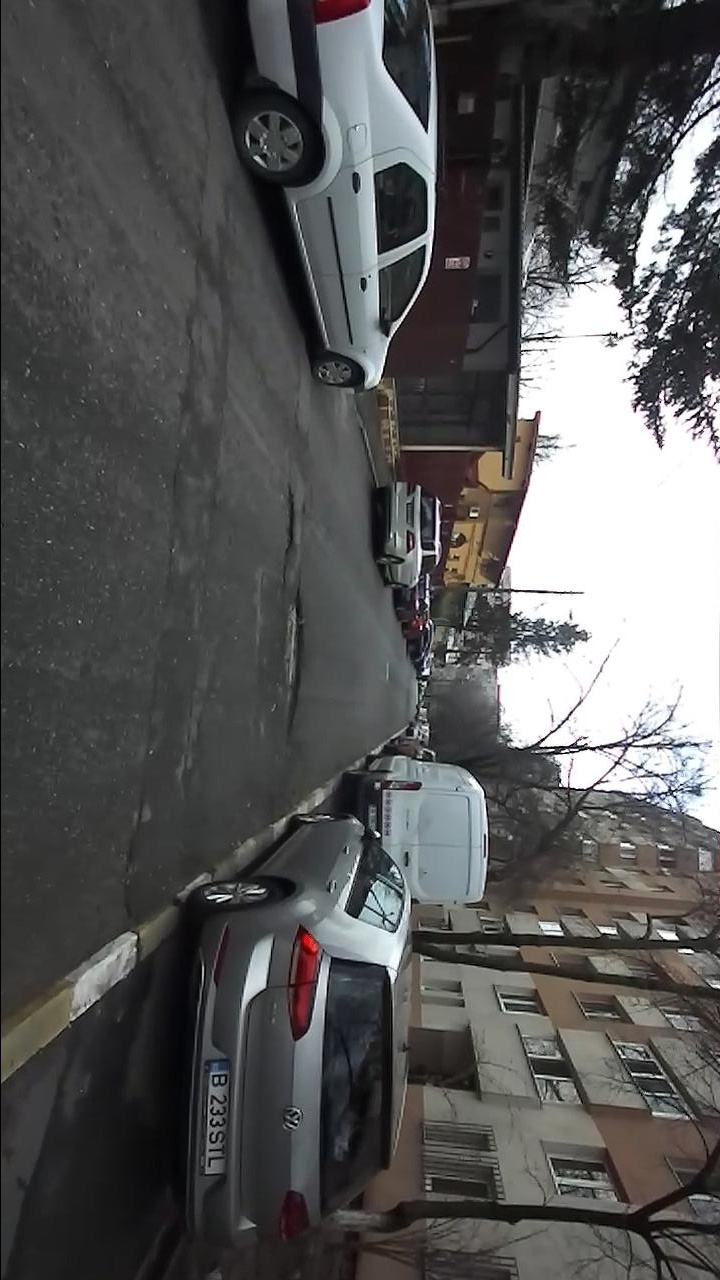pothole: (278, 589, 307, 738), (118, 808, 140, 916), (282, 480, 297, 553), (282, 560, 288, 585)
